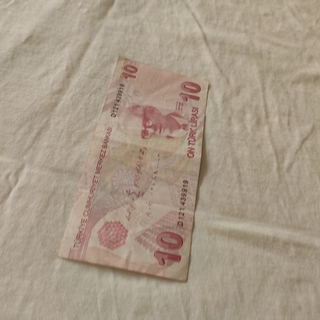10TLBack: (58, 54, 210, 282)
